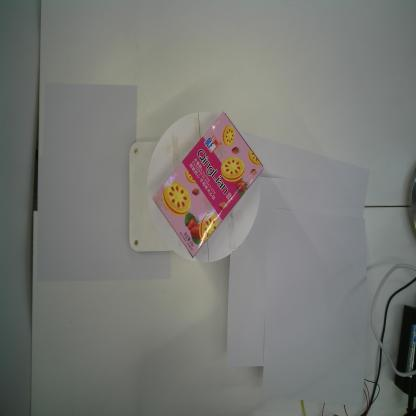Dessert: (152, 110, 264, 259)
